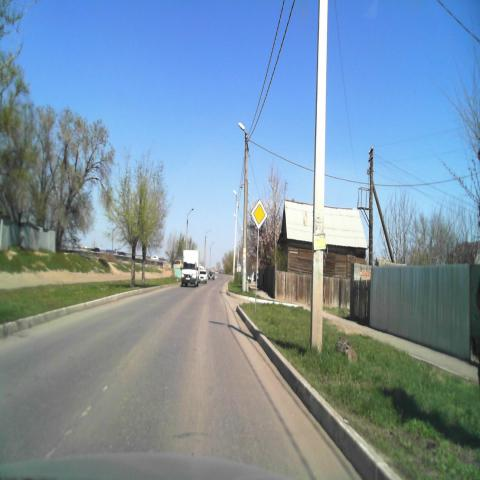2_1: (251, 199, 268, 230)
